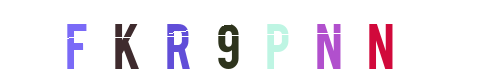9: (221, 0, 301, 80)
F: (95, 0, 175, 80)
K: (135, 0, 215, 80)
N: (264, 0, 344, 80), (341, 0, 421, 80)
P: (231, 0, 311, 80)
R: (202, 0, 282, 80)
